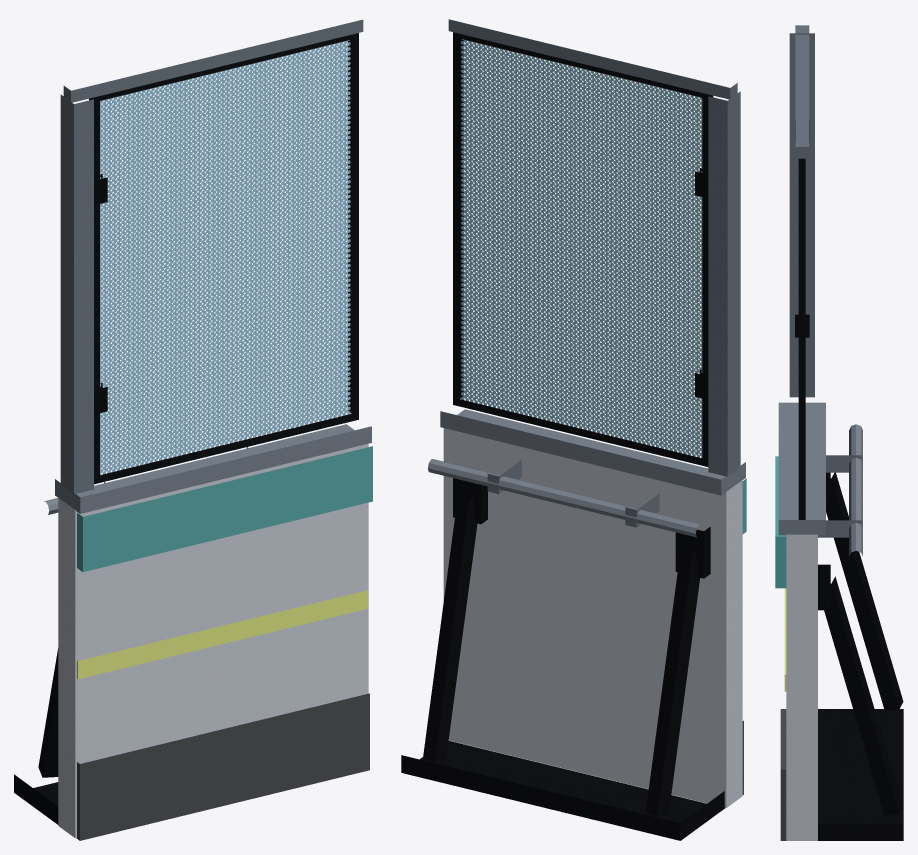
Rendered from tt_rink_board_1m.glb.
The picture shows the model from 3 angles, left to right: view 1: azimuth 30°, elevation 25°; view 2: azimuth 150°, elevation 25°; view 3: azimuth 270°, elevation 25°; orthographic projection. The views are drawn at different scales.
Parts seen in each view (by area): view 1: Pane_Scissor, Board_Shell, Kick_Plate, Glazing_Frame, Cap_Pad, Pane_Frit, Cap_Rail, Court_Stripe, Sill_Frame, Pane_Clamps_Hardware; view 2: Pane_Scissor, Board_Shell, Sill_Frame, Glazing_Frame, Pane_Frit, Cap_Rail, Spectator_Rail, Rail_Bracket_Hardware, Pane_Clamps_Hardware; view 3: Sill_Frame, Board_Shell, Glazing_Frame, Cap_Rail, Pane_Frit, Spectator_Rail, Rail_Bracket_Hardware, Cap_Pad, Kick_Plate, Court_Stripe.
Boxes of the visible parts, box(x1,y1,x2,y2) form: Pane_Scissor: box(100, 40, 350, 474); Board_Shell: box(58, 443, 368, 838); Kick_Plate: box(76, 693, 369, 840); Glazing_Frame: box(60, 19, 363, 493); Cap_Pad: box(77, 446, 372, 571); Pane_Frit: box(89, 33, 358, 484); Cap_Rail: box(55, 424, 371, 513); Court_Stripe: box(77, 590, 367, 679); Sill_Frame: box(14, 648, 58, 824); Pane_Clamps_Hardware: box(94, 173, 107, 414); Pane_Scissor: box(461, 39, 702, 457); Board_Shell: box(443, 428, 742, 807); Sill_Frame: box(401, 478, 724, 840); Glazing_Frame: box(448, 19, 740, 476); Pane_Frit: box(453, 32, 713, 466); Cap_Rail: box(440, 409, 745, 495); Spectator_Rail: box(428, 459, 701, 537); Rail_Bracket_Hardware: box(487, 460, 659, 527); Pane_Clamps_Hardware: box(695, 168, 708, 399); Sill_Frame: box(818, 472, 903, 840); Board_Shell: box(786, 534, 817, 840); Glazing_Frame: box(789, 25, 814, 397); Cap_Rail: box(778, 402, 825, 535); Pane_Frit: box(798, 158, 805, 519); Spectator_Rail: box(849, 424, 862, 556); Rail_Bracket_Hardware: box(818, 455, 862, 537); Cap_Pad: box(775, 456, 786, 588); Kick_Plate: box(780, 709, 786, 840); Court_Stripe: box(784, 588, 786, 691).
Size of what is drawn, in the model's own units: 0.998 by 2.42 by 0.405.
9 materials, 6 textured.
